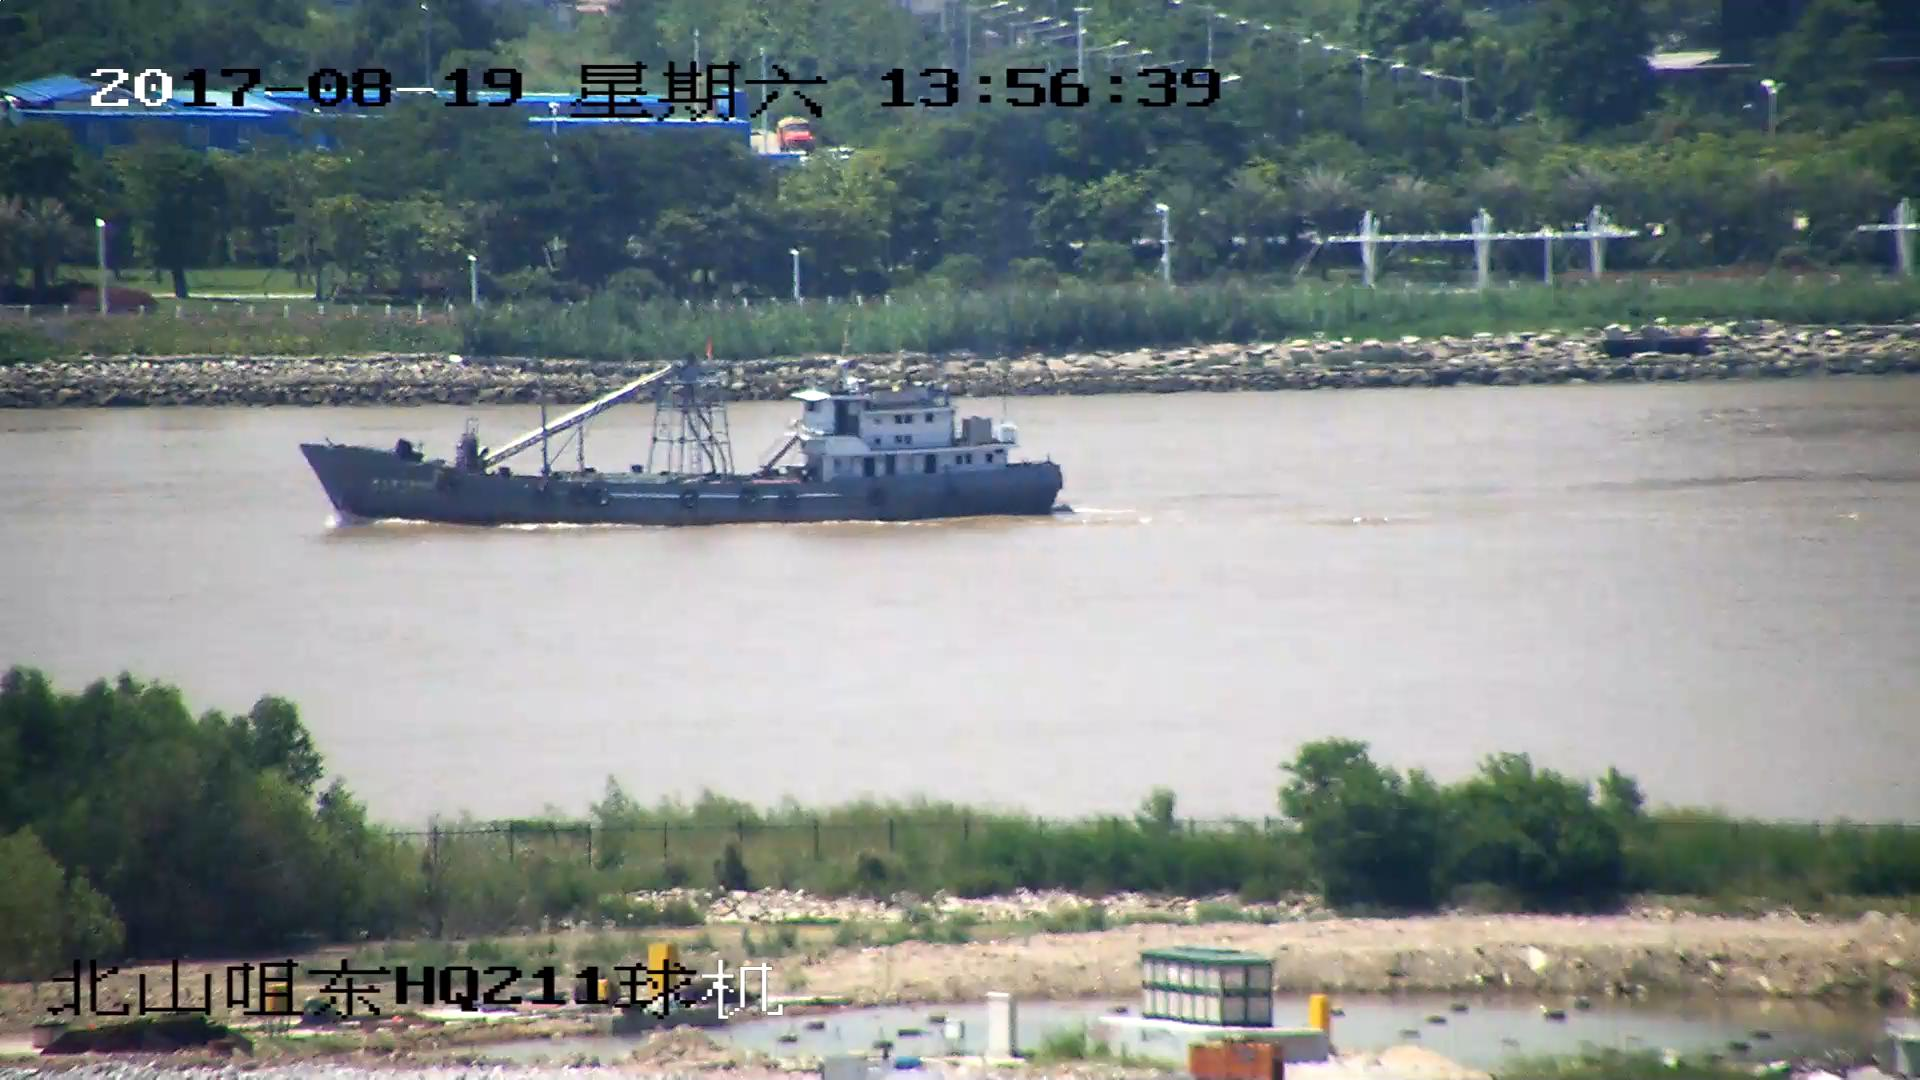fishing boat: (299, 350, 1064, 524)
